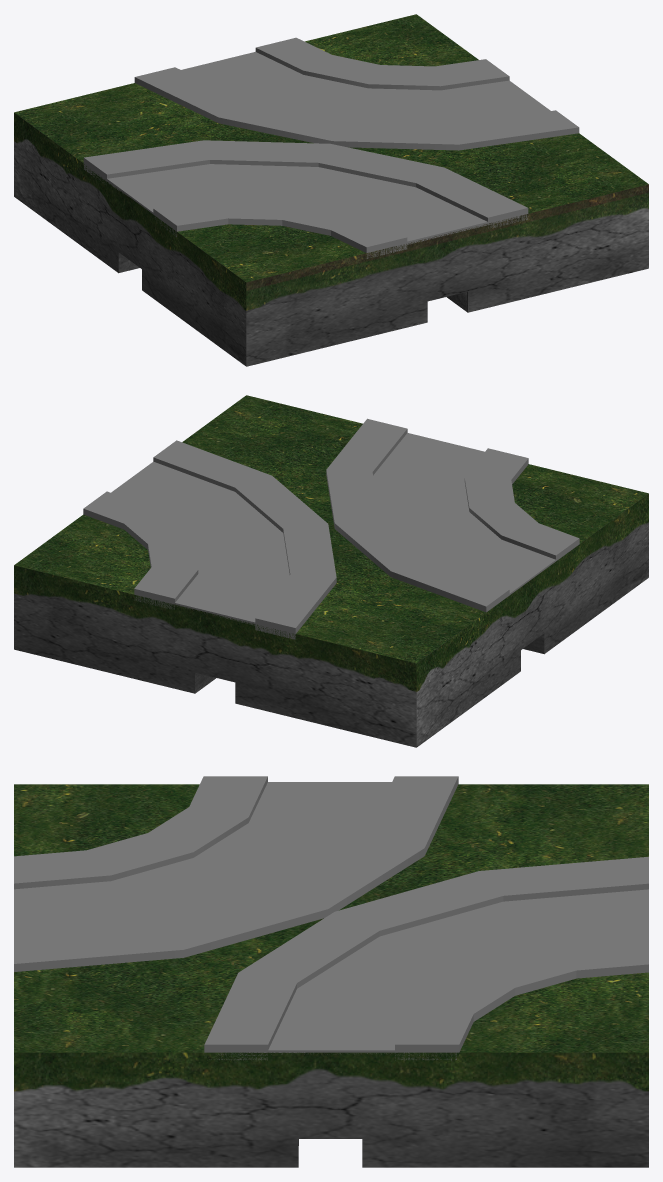
File: puzzlePiece_twoBends_NE_SW.obj
3 renders of one model, top to bottom at view 1: azimuth 30°, elevation 25°; view 2: azimuth 150°, elevation 25°; view 3: azimuth 270°, elevation 25°, orthographic. The views are drawn at different scales.
Parts seen in each view (by area): view 1: pCube1, pCylinder12, pCylinder13, pCylinder8, pCylinder10; view 2: pCube1, pCylinder13, pCylinder12, pCylinder10, pCylinder8; view 3: pCube1, pCylinder12, pCylinder13, pCylinder10, pCylinder8.
Boxes of the visible parts, x1=… form: pCube1: x1=14, y1=14, x2=648, y2=366; pCylinder12: x1=83, y1=140, x2=528, y2=258; pCylinder13: x1=134, y1=37, x2=579, y2=150; pCylinder8: x1=88, y1=164, x2=520, y2=247; pCylinder10: x1=181, y1=52, x2=550, y2=124; pCube1: x1=14, y1=395, x2=648, y2=747; pCylinder13: x1=83, y1=440, x2=336, y2=639; pCylinder12: x1=326, y1=418, x2=579, y2=612; pCylinder10: x1=111, y1=461, x2=289, y2=633; pCylinder8: x1=373, y1=433, x2=561, y2=608; pCube1: x1=14, y1=784, x2=648, y2=1167; pCylinder12: x1=14, y1=776, x2=458, y2=971; pCylinder13: x1=204, y1=856, x2=648, y2=1060; pCylinder10: x1=217, y1=889, x2=648, y2=1054; pCylinder8: x1=14, y1=782, x2=391, y2=936.
Size of the model in its own units: 0.5 by 0.107 by 0.5.
Materials: 3 (1 with a texture image).
